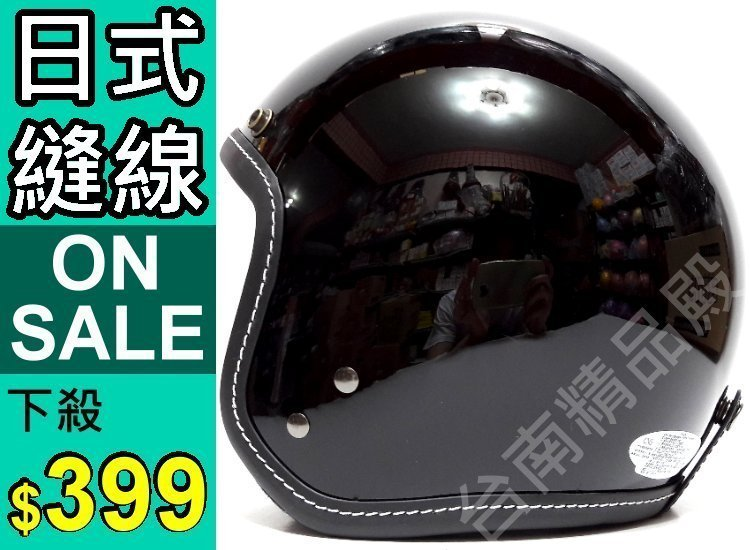helmet: (216, 25, 710, 516)
